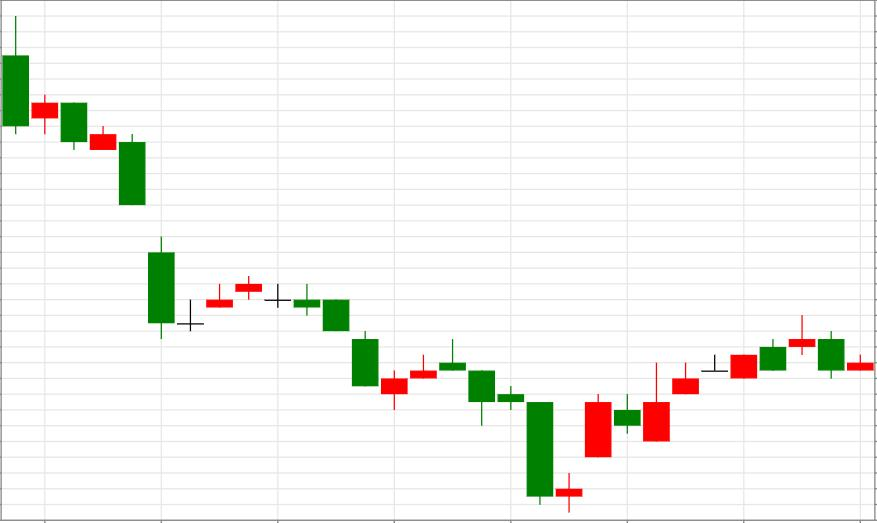morning_star_rise: (293, 283, 612, 513)
